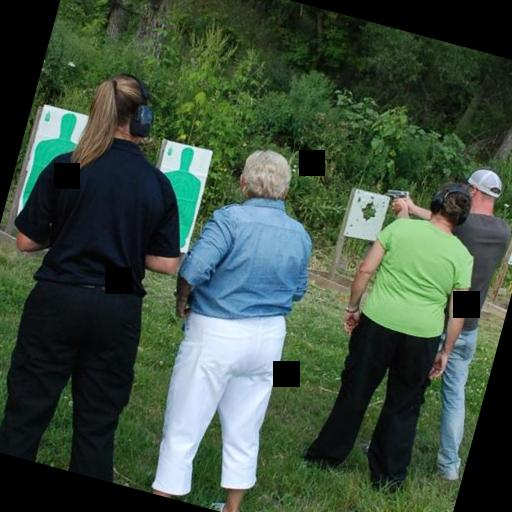Handgun: (381, 184, 410, 205)
